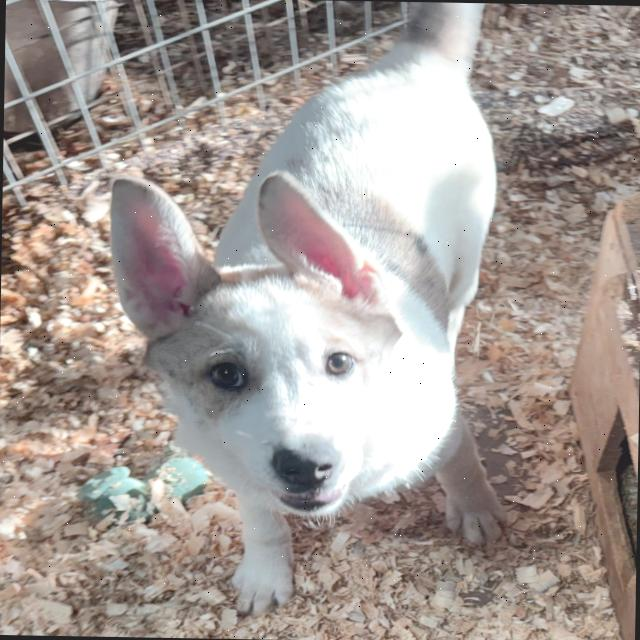corgi_dog: (93, 158, 420, 530)
